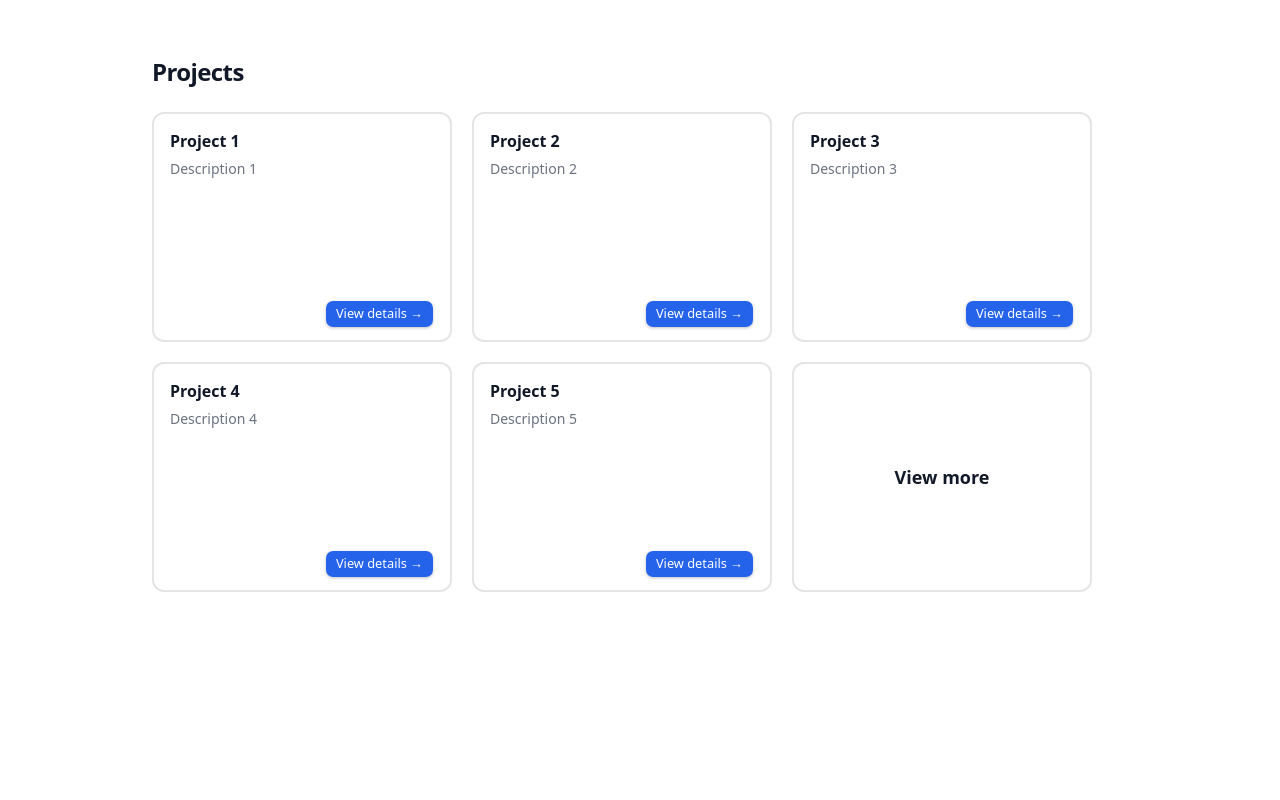
Test: InsightsSection › shows view more card as sixth slot when there are more than six projects
Expected: the text "Project 1" is shown, [170,130,240,152]
Expected: the text "Project 5" is shown, [490,380,560,402]
Click the button "View more" at (942, 477), box [792,362,1092,592]
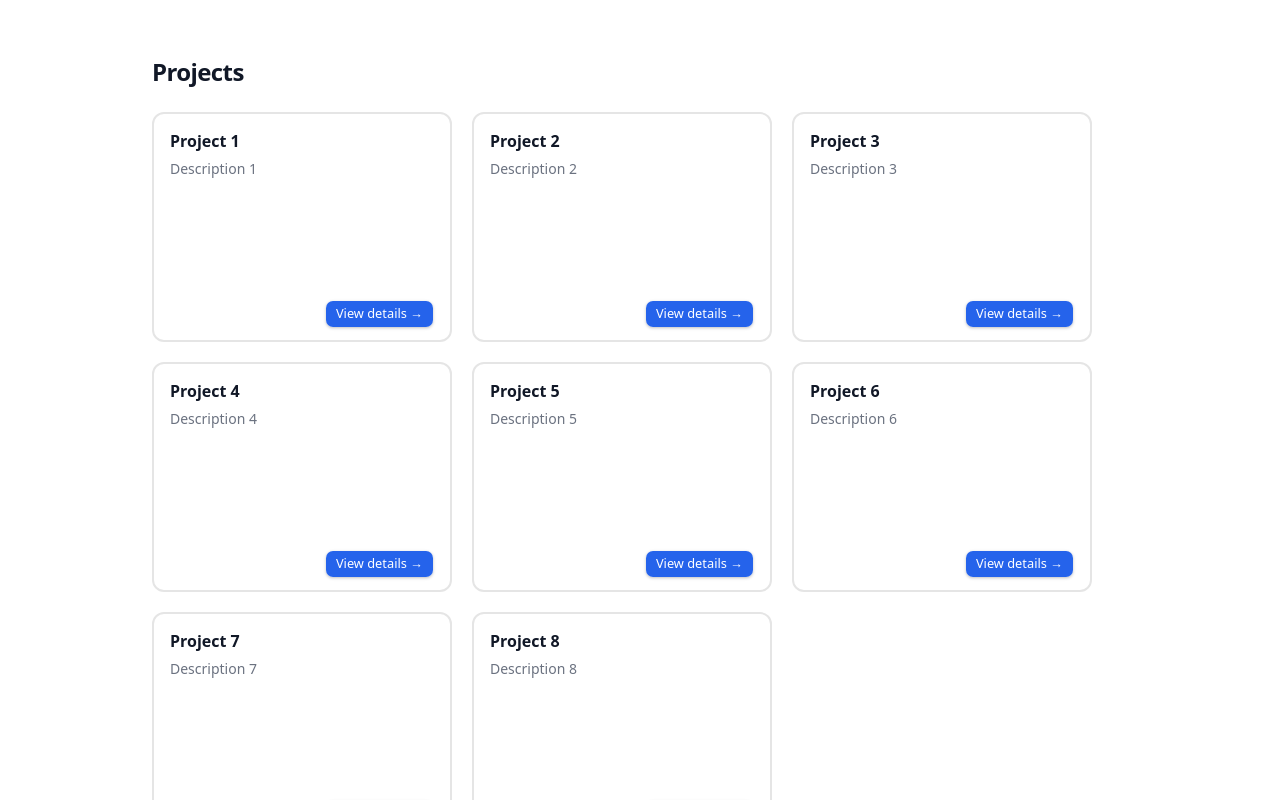
Expected: the text "Project 6" is shown, [810,380,880,402]
Expected: the text "Project 8" is shown, [490,630,560,652]
Expected: the button "View more" is gone
